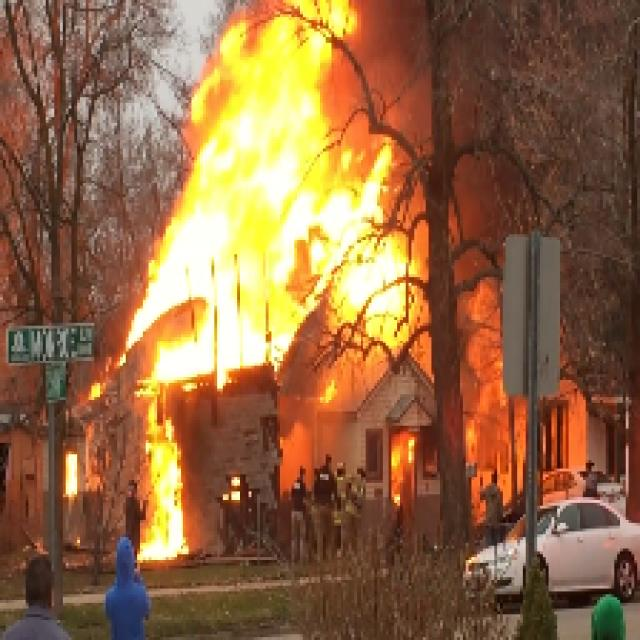fire: (166, 3, 346, 363)
